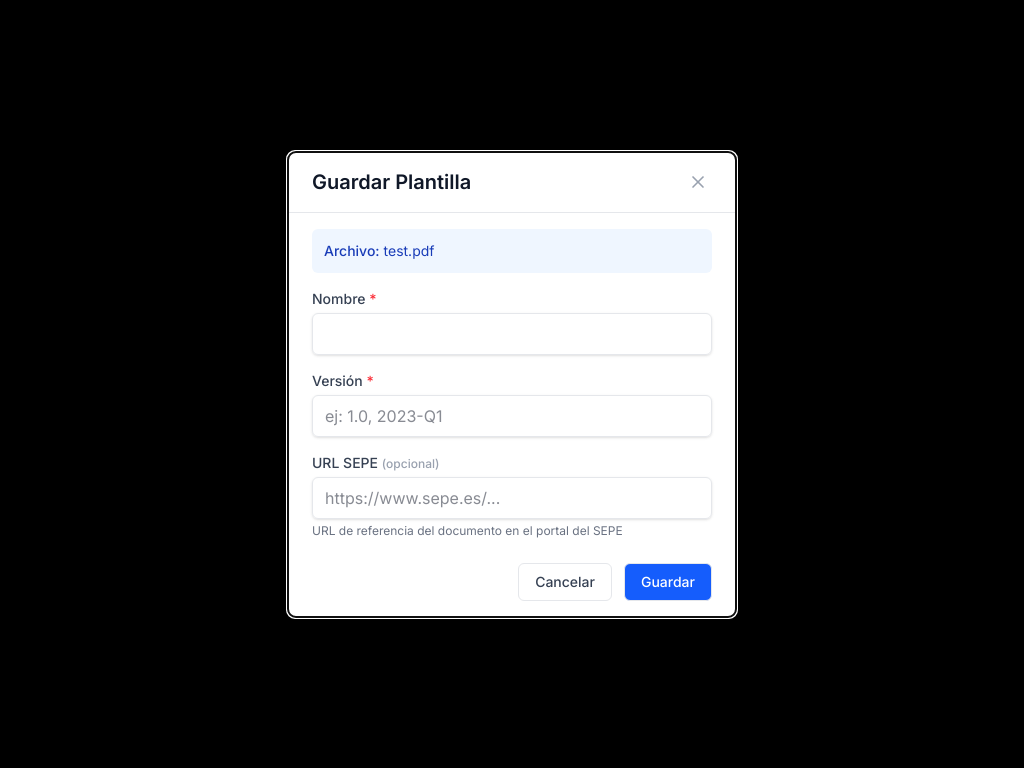
Scenario: TemplateSaveModal › Form Validation › should show error when name is empty
Click the button "Guardar" at {"x": 668, "y": 582}, box [624,562,712,600]
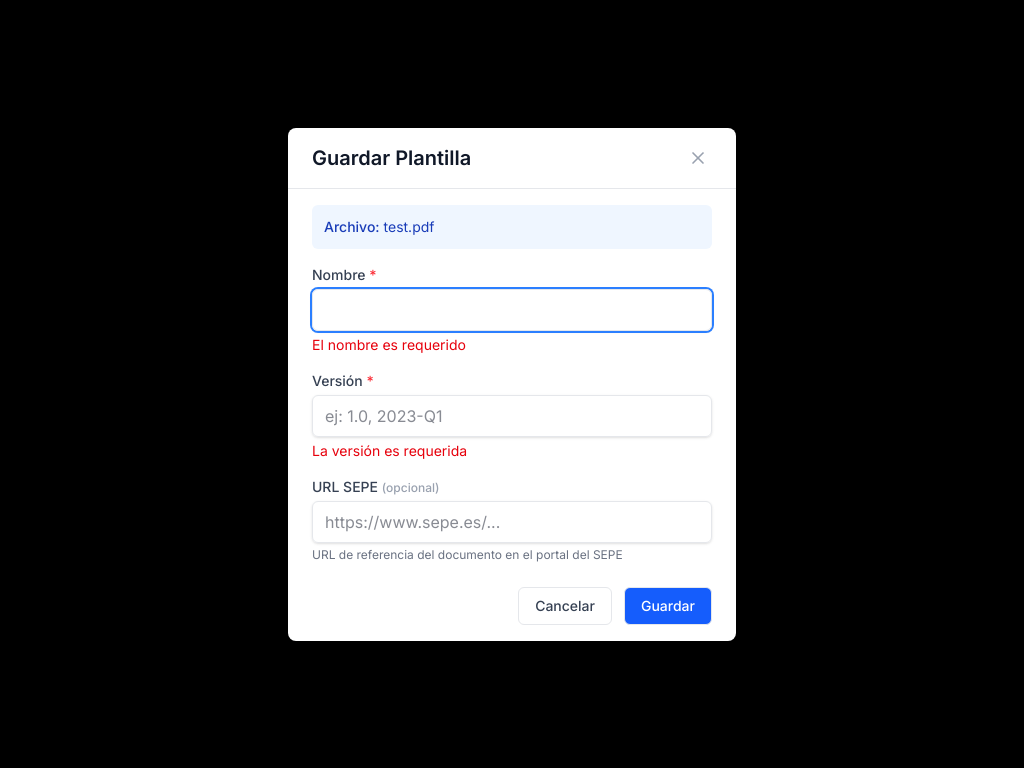
Check: the text "El nombre es requerido" is shown, box [312,336,466,352]
